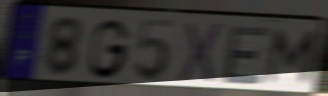5: (133, 16, 179, 84)
8: (43, 14, 84, 80)
E: (220, 25, 273, 86)
G: (87, 17, 132, 81)
M: (262, 26, 321, 86)
X: (177, 20, 226, 87)
